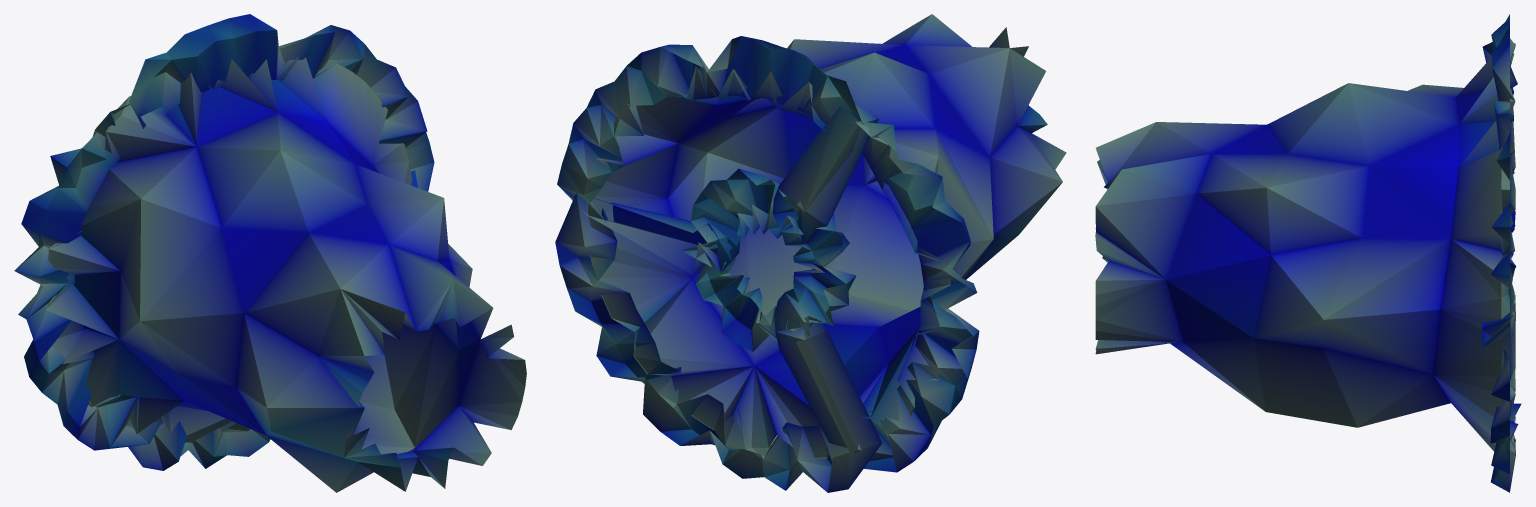
File: lamp_shade_2_final100.obj
The picture shows the model from 3 angles, left to right: view 1: azimuth 30°, elevation 25°; view 2: azimuth 150°, elevation 25°; view 3: azimuth 270°, elevation 25°; orthographic projection.
Bounding box in the file's own units: 1.26 × 1.26 × 1.11.
